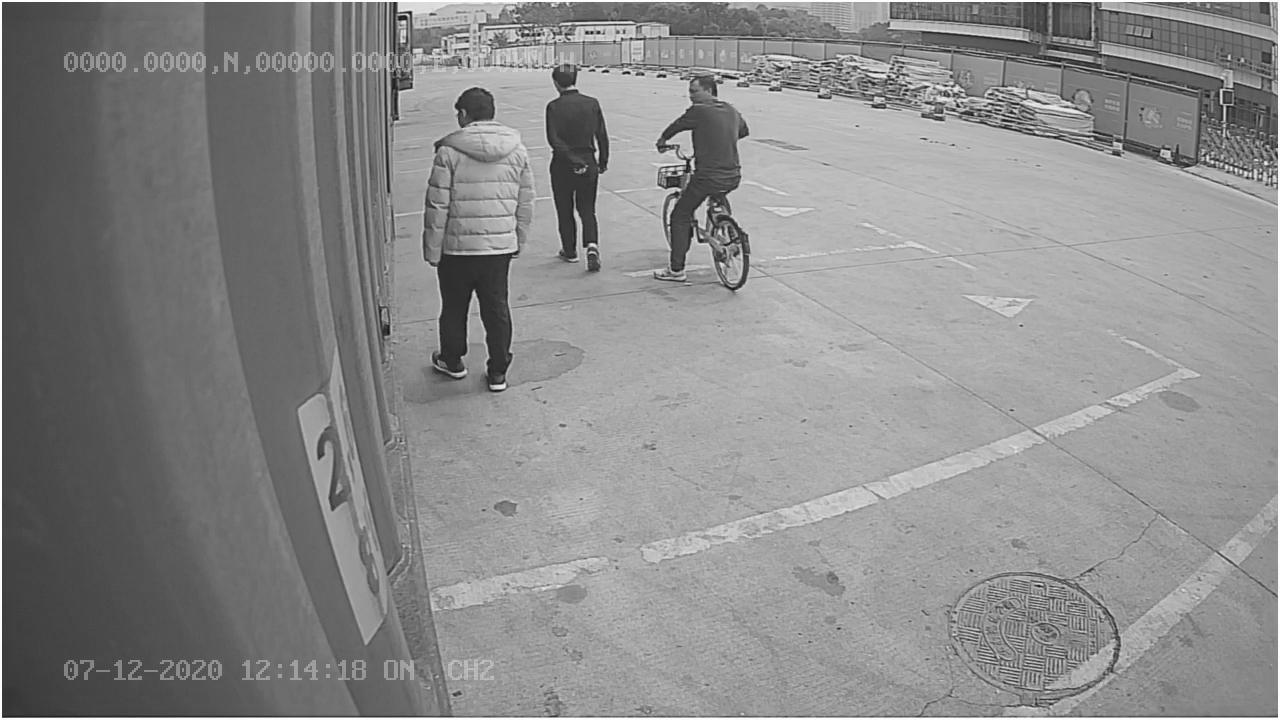person: (422, 87, 538, 397)
